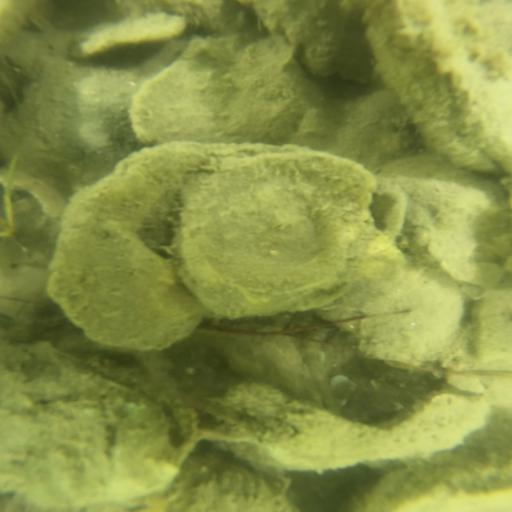Oyster-Closed: (51, 144, 203, 351), (371, 1, 509, 172), (131, 41, 307, 142), (370, 424, 512, 508), (174, 449, 288, 512)
Oyster-Open: (181, 155, 408, 313), (1, 342, 204, 512)
